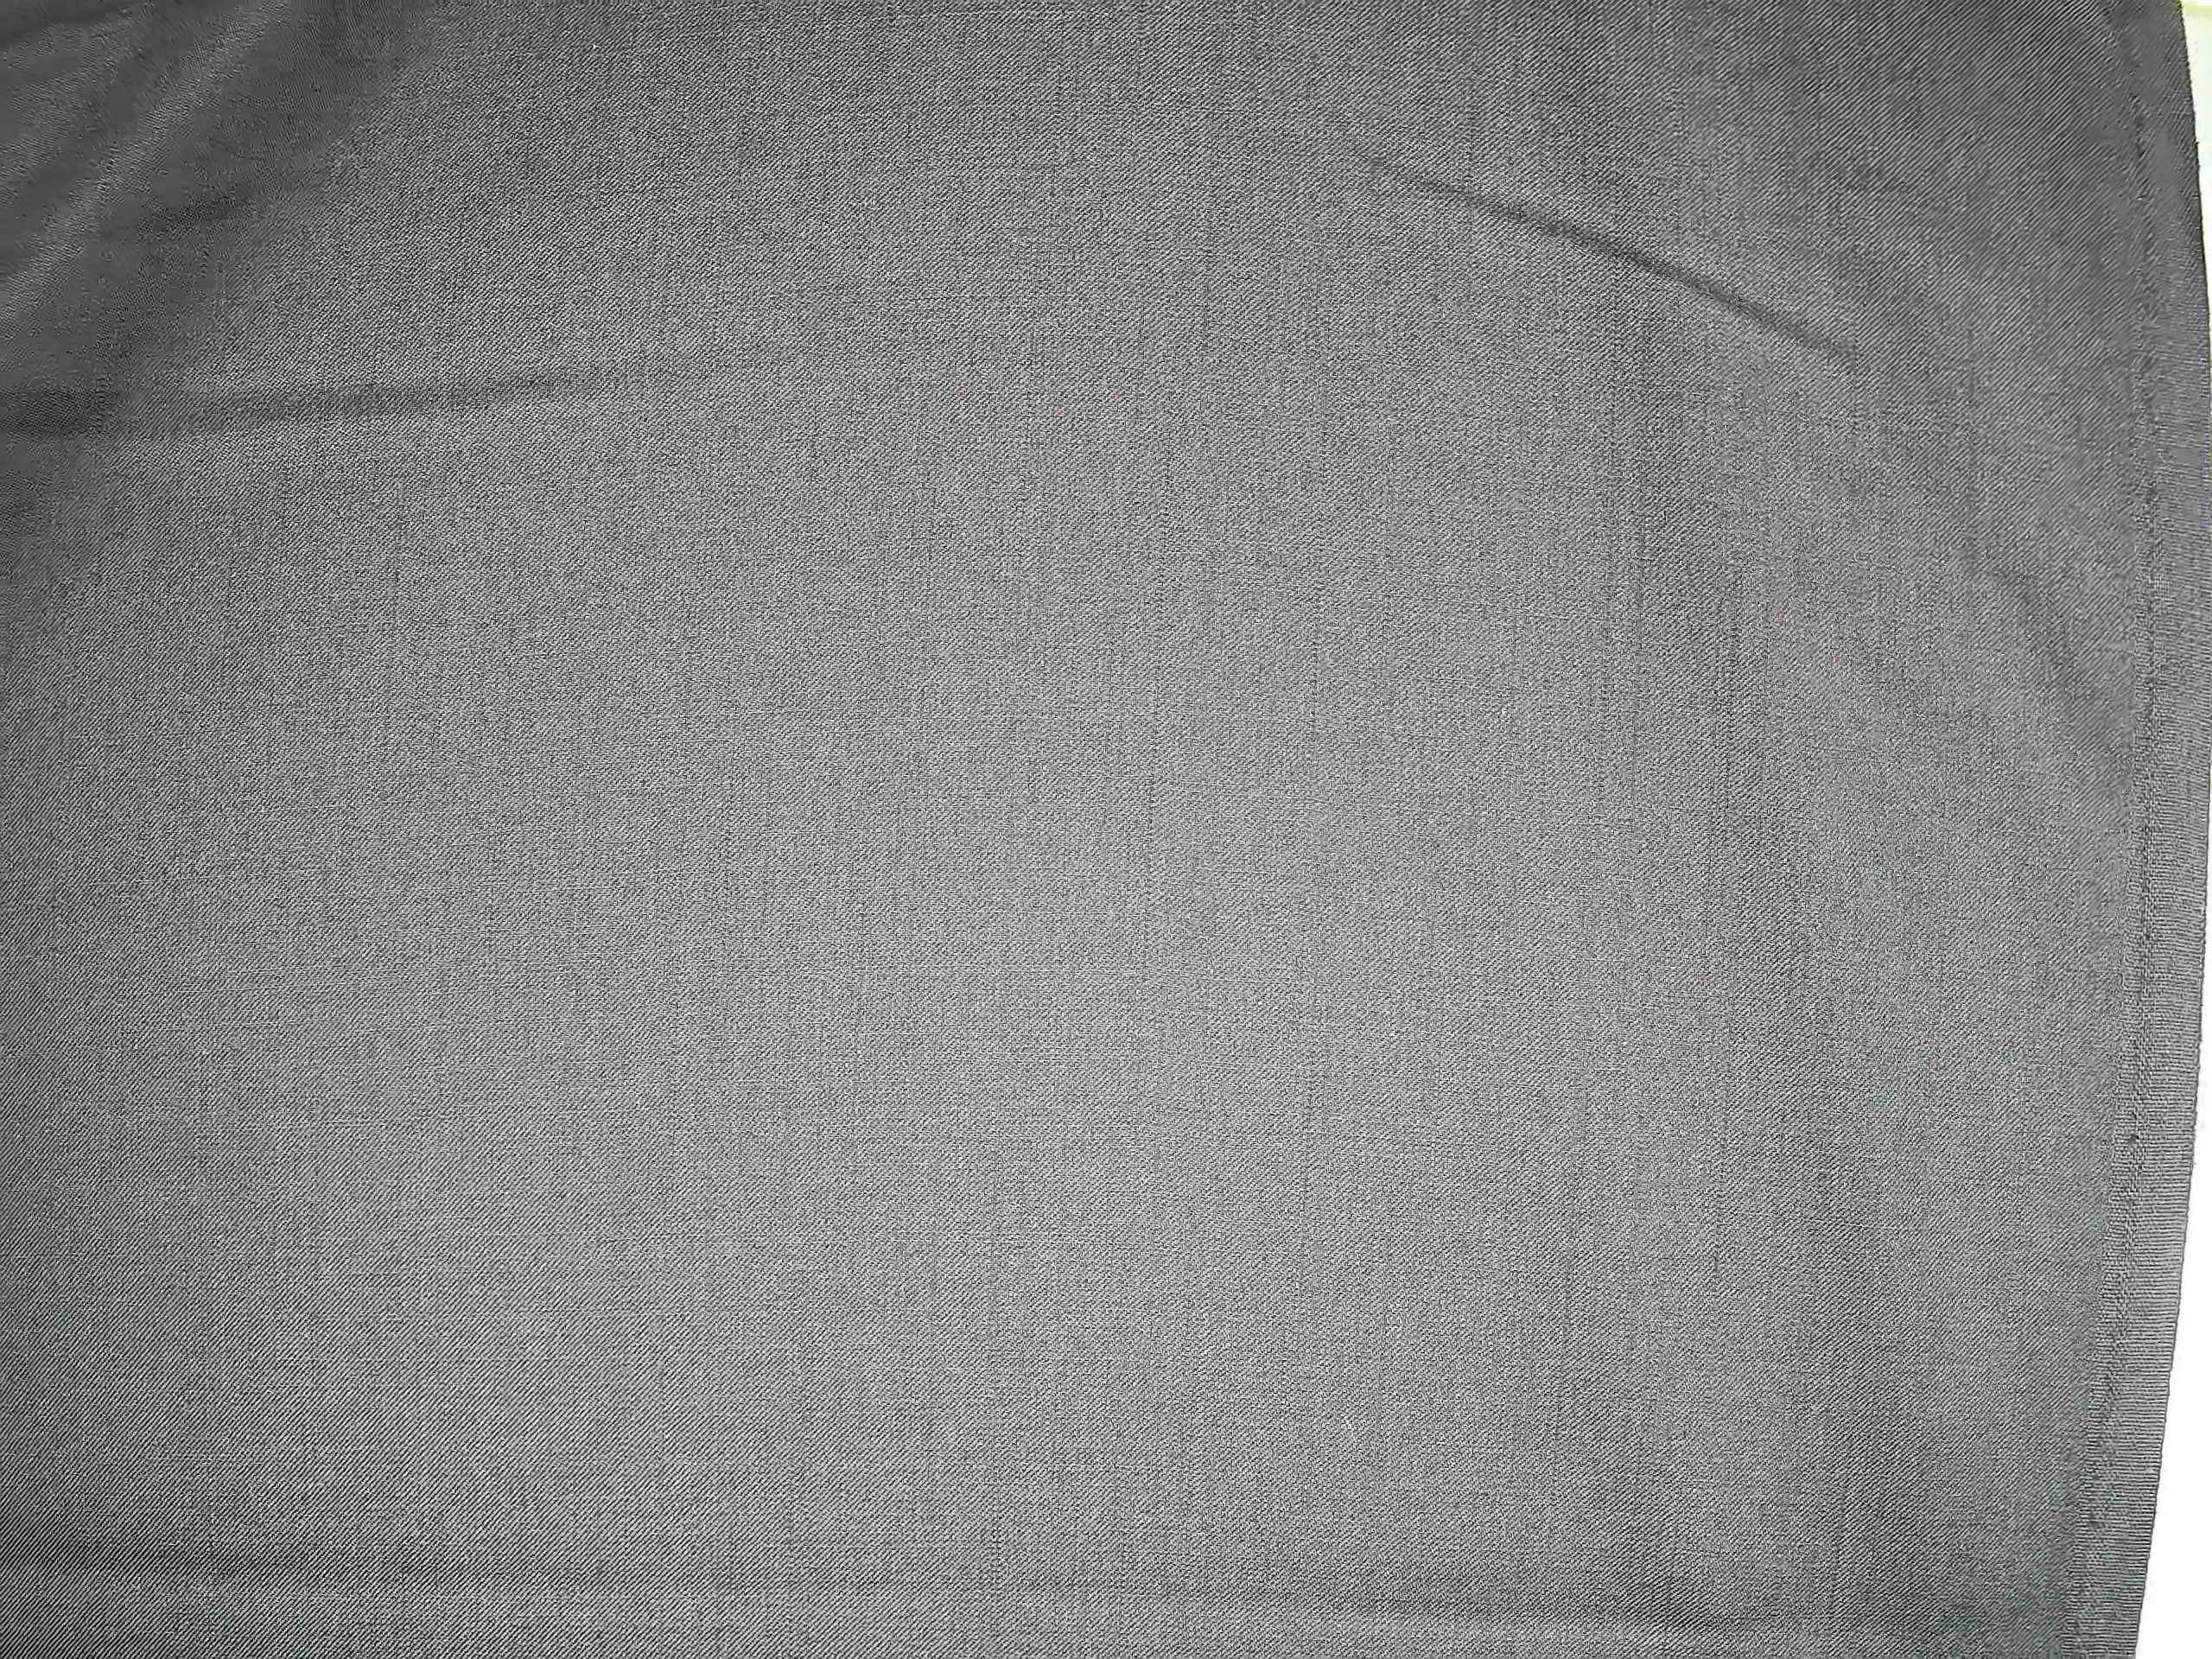hanging-warp: (1590, 190, 1672, 840), (1700, 549, 1747, 1300), (1127, 423, 1177, 1044), (1306, 249, 1334, 748), (1296, 995, 1327, 1290)
